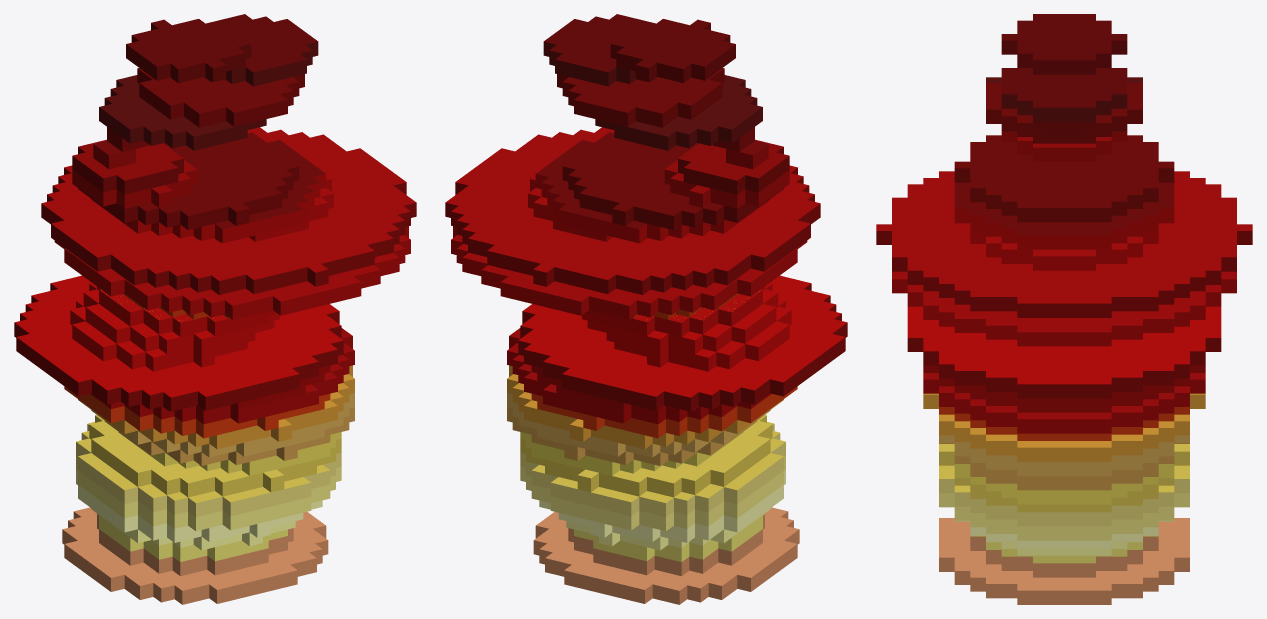
The model's file is TREDB0_flame.obj.
3 views of the same model, side by side, from view 1: azimuth 30°, elevation 25°; view 2: azimuth 150°, elevation 25°; view 3: azimuth 270°, elevation 25° (orthographic).
Parts seen in each view (by area): view 1: TorchFlame; view 2: TorchFlame; view 3: TorchFlame.
Boxes of the visible parts, left/top/right/bottom form: TorchFlame: left=14, top=14, right=416, bottom=604; TorchFlame: left=445, top=14, right=847, bottom=604; TorchFlame: left=876, top=14, right=1252, bottom=604.
Size of the model in its own units: 0.6579 by 0.9474 by 0.6316.
Materials: 1 (1 with a texture image).
